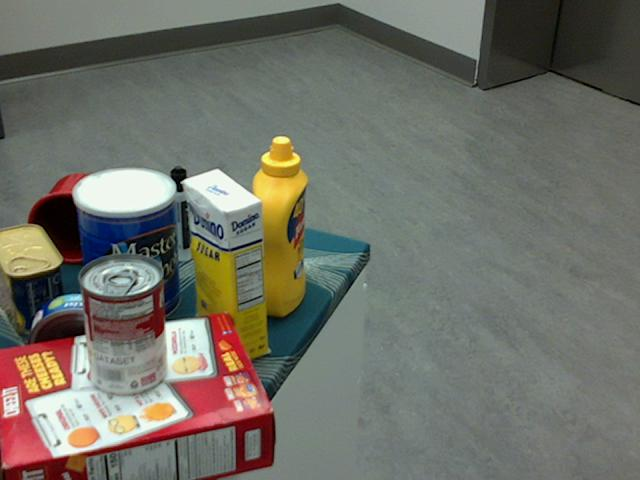cracker_box: (0, 313, 274, 479)
large_marker: (170, 165, 190, 260)
master_chef_can: (71, 167, 179, 328)
mug: (24, 173, 115, 265)
mustard_bottle: (249, 134, 307, 316)
potted_meat_can: (0, 222, 67, 339)
sugar_box: (183, 167, 267, 365)
tomato_soup_can: (77, 254, 165, 396)
tuna_fish_can: (27, 293, 122, 385)
